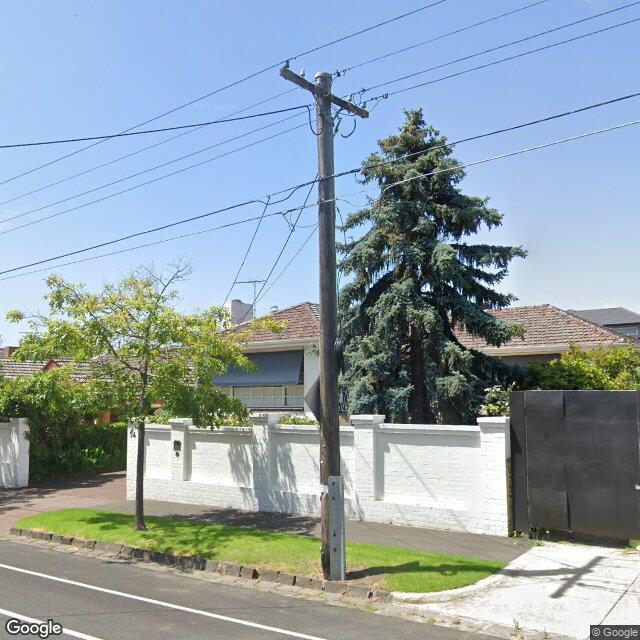crossarm: (279, 58, 390, 118)
timber-pole: (315, 71, 347, 580)
